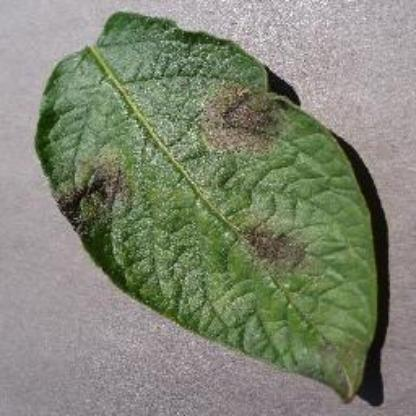Late-Blight: (34, 9, 384, 403)
